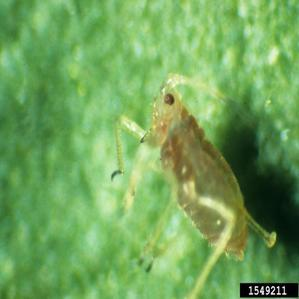Green peach aphid: (95, 57, 285, 283)
